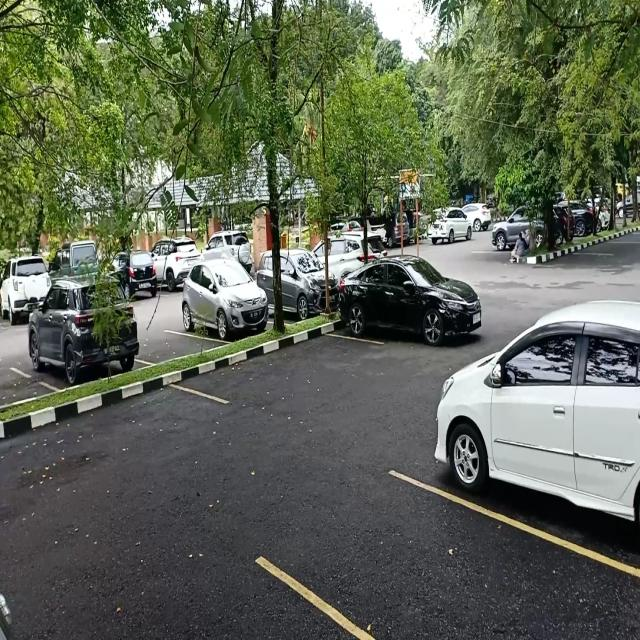empty: (328, 468, 526, 638), (141, 326, 204, 364)
occupied: (418, 358, 640, 546), (331, 258, 467, 347), (13, 316, 144, 394), (182, 290, 269, 342)
